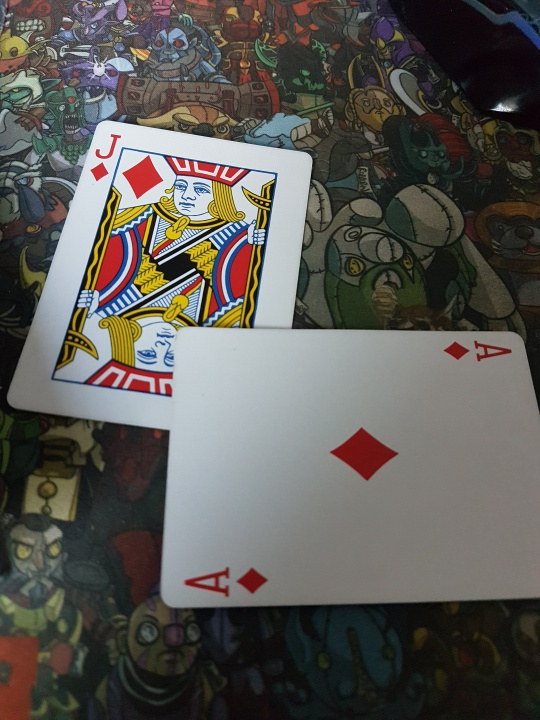ace: (160, 327, 540, 608)
jack: (10, 118, 314, 428)
